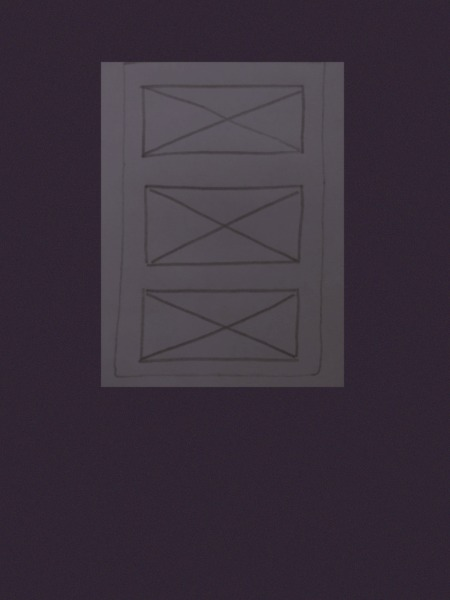image: (138, 181, 306, 270), (136, 280, 304, 369), (137, 79, 306, 162)
